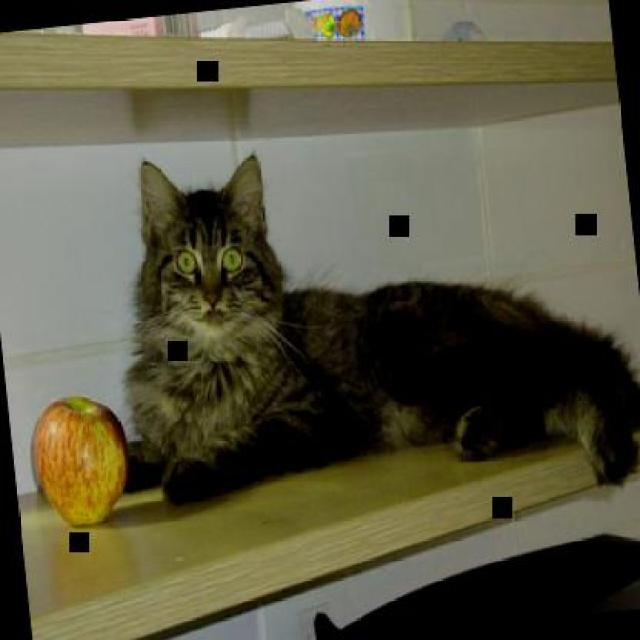cat: (91, 110, 638, 542)
